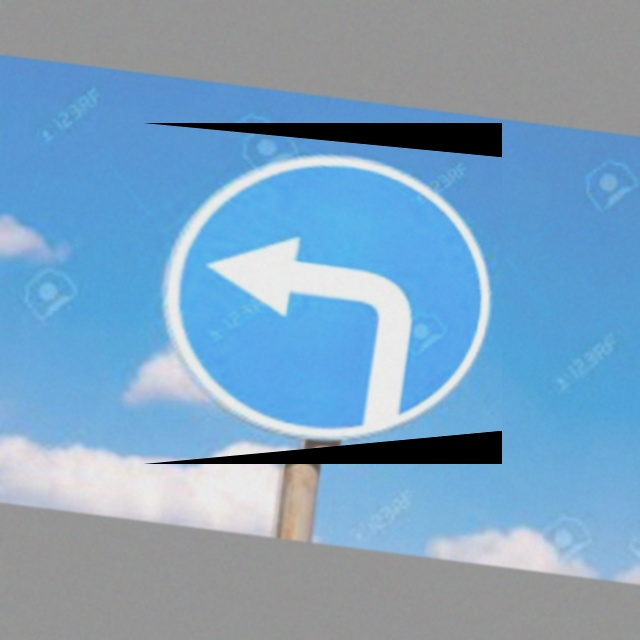Compulsory_Turn_Left_Ahead: (143, 123, 502, 464)
